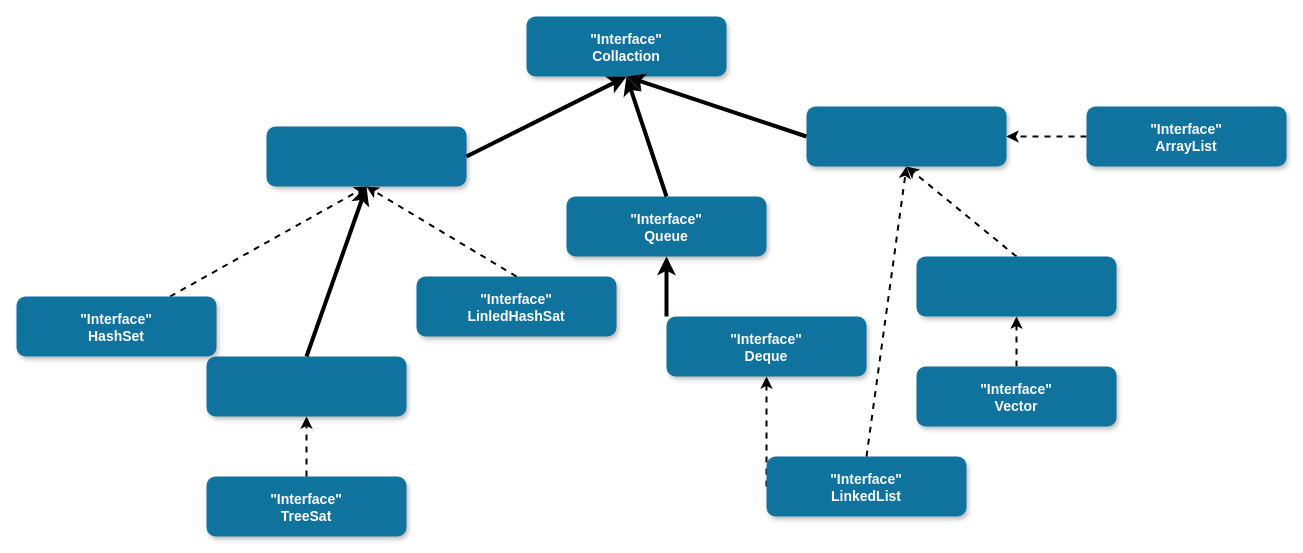
Image size: 1303x553. Some labels were removed from this diagram. The shapes that lost their labels are listed below. From the top down, each one's centre as x and y in pixels, then its label:
(x=367, y=157): "Interface" Sat
(x=907, y=137): "Interface" List
(x=1017, y=287): "Interface" Stak
(x=307, y=387): "Interface" SortedSet
